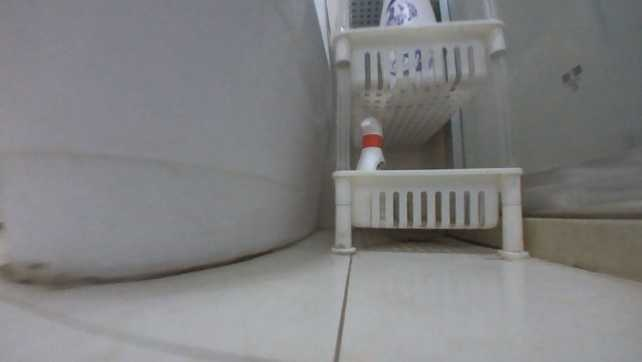toilet: (0, 0, 333, 291)
